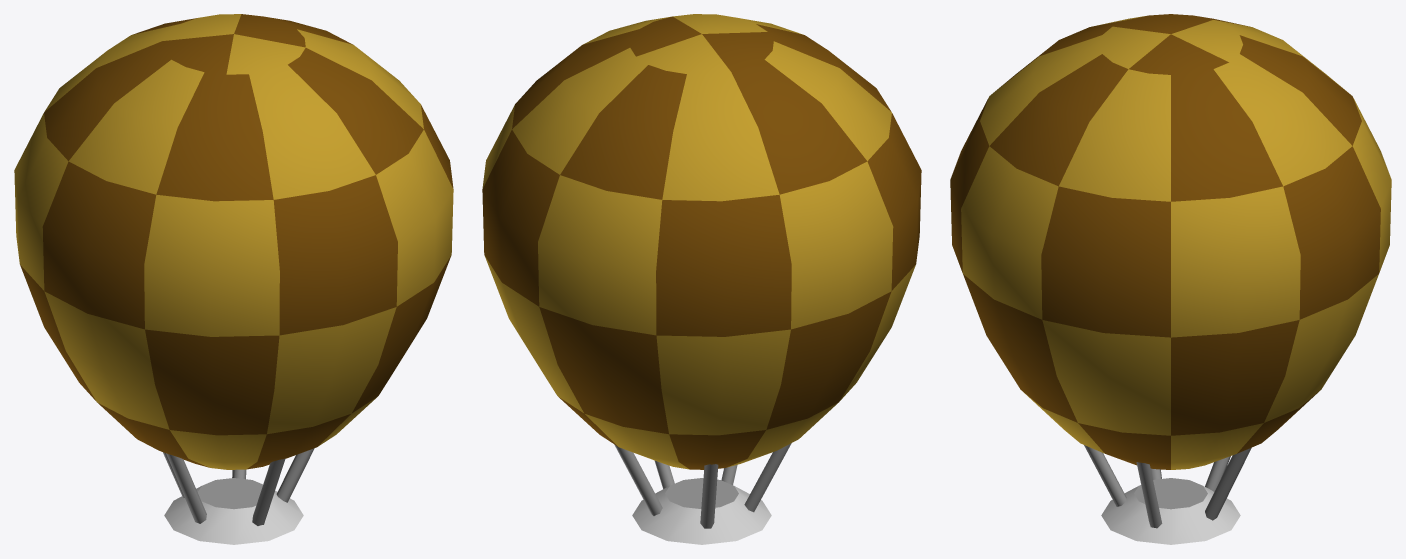
File: Entity_Balloon.FBX
3 renders of one model, left to right at view 1: azimuth 30°, elevation 25°; view 2: azimuth 150°, elevation 25°; view 3: azimuth 270°, elevation 25°, orthographic.
Parts seen in each view (by area): view 1: Balloon; view 2: Balloon; view 3: Balloon.
Part boxes in pixels (x1,y1,x2,y2): Balloon: (14,14,453,544); Balloon: (482,14,921,544); Balloon: (950,14,1391,544).
Bounding box in the file's own units: 47.43 × 57.06 × 47.43.
